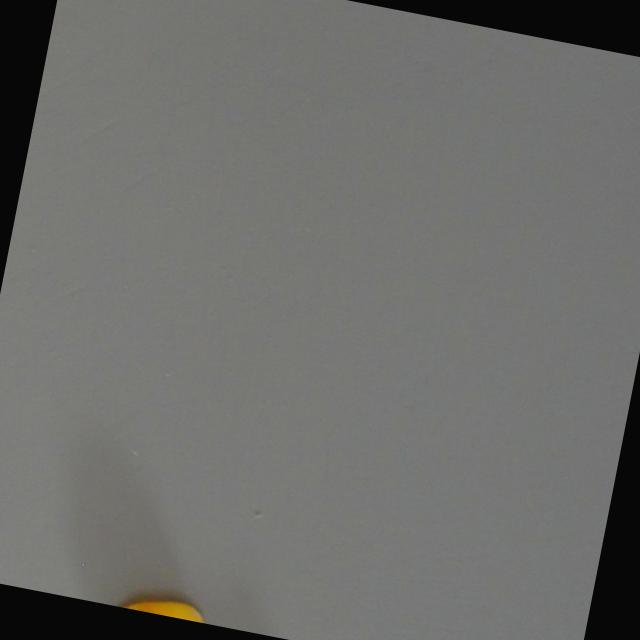no_canjicado: (113, 590, 210, 624)
